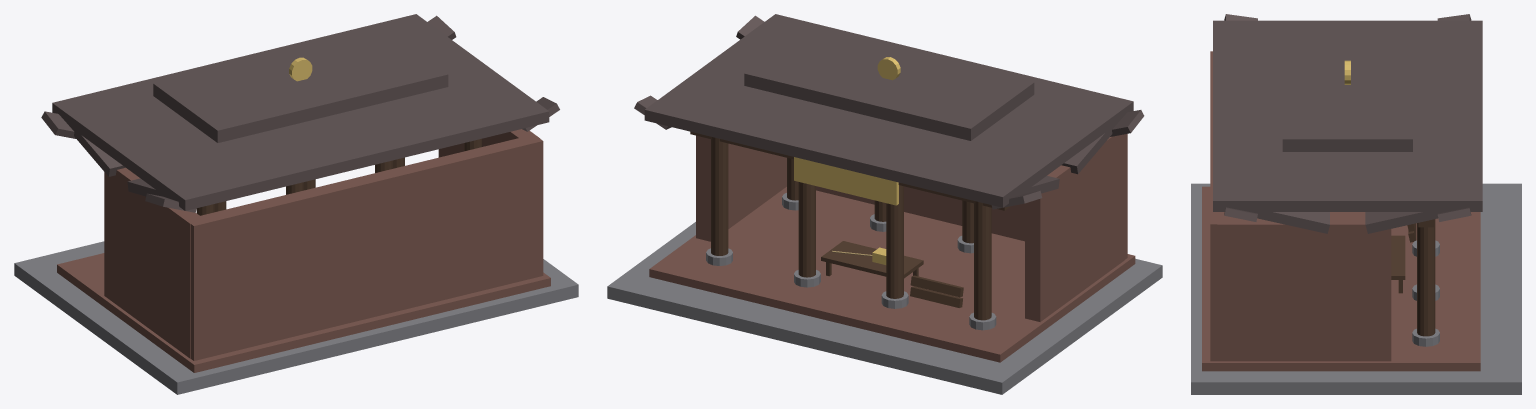
The model's file is dinh_dong_xa_nghi_que.glb.
3 renders of one model, left to right at view 1: azimuth 30°, elevation 25°; view 2: azimuth 150°, elevation 25°; view 3: azimuth 270°, elevation 25°, orthographic. The views are drawn at different scales.
Parts seen in each view (by area): view 1: Dinh_Dong_Xa_Nghi_Que; view 2: Dinh_Dong_Xa_Nghi_Que; view 3: Dinh_Dong_Xa_Nghi_Que.
Boxes of the visible parts, x1,y1,x2,y2 form: Dinh_Dong_Xa_Nghi_Que: [14, 14, 578, 394]; Dinh_Dong_Xa_Nghi_Que: [607, 14, 1162, 394]; Dinh_Dong_Xa_Nghi_Que: [1191, 14, 1521, 394].
Size of the model in its own units: 10.8 by 5.93 by 7.6.
